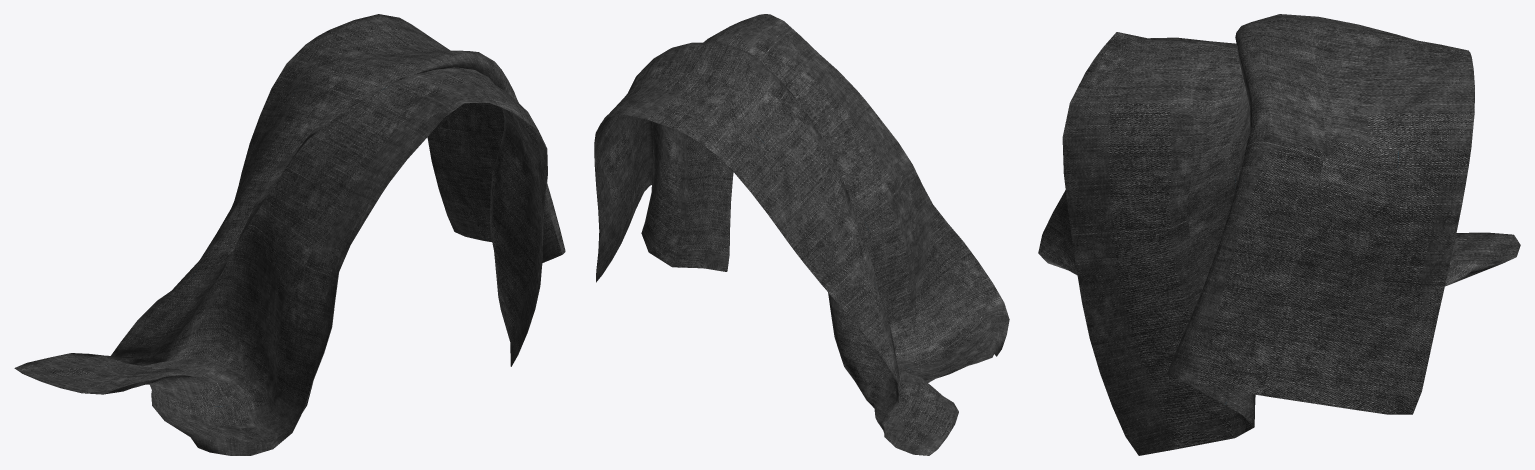
File: Textile_blanket_02.glb
3 views of the same model, side by side, from view 1: azimuth 30°, elevation 25°; view 2: azimuth 150°, elevation 25°; view 3: azimuth 270°, elevation 25° (orthographic). The views are drawn at different scales.
Visible parts, largest first — view 1: blanket_02; view 2: blanket_02; view 3: blanket_02.
Part boxes in pixels (bbox=[...]): blanket_02: bbox=[14, 14, 565, 455]; blanket_02: bbox=[594, 14, 1009, 455]; blanket_02: bbox=[1038, 14, 1520, 455].
Bounding box in the file's own units: 0.5195 × 0.3506 × 0.3692.
Materials: 1 (1 with a texture image).
